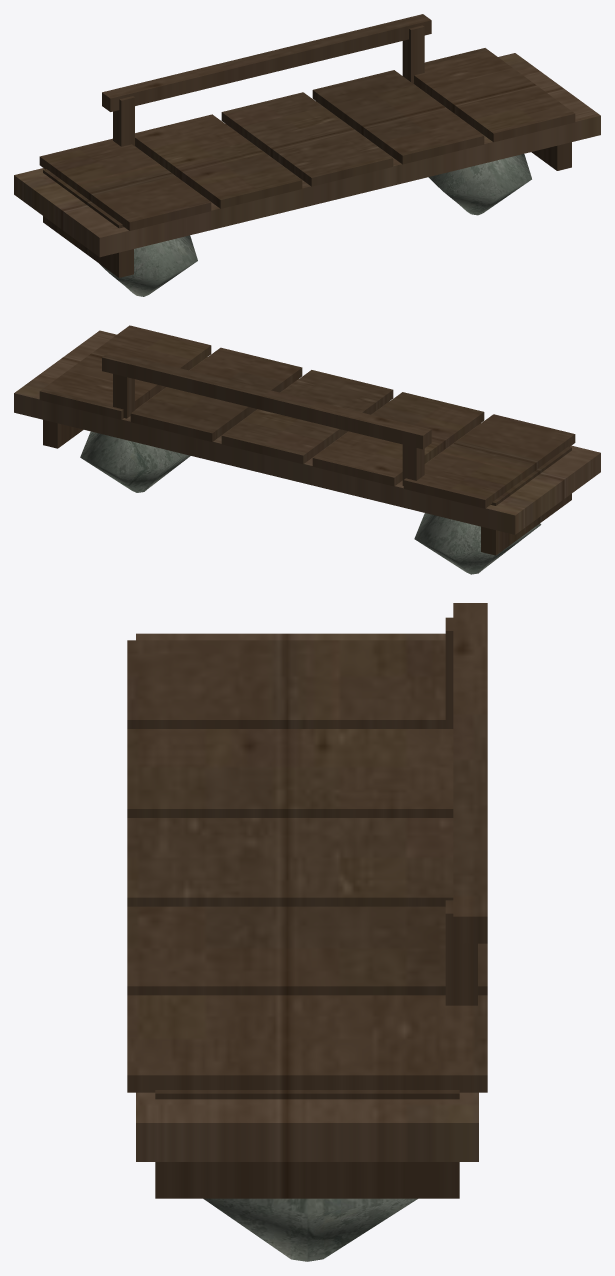
Rendered from paired-bench.mobile.glb.
3 views of the same model, one above another, from view 1: azimuth 30°, elevation 25°; view 2: azimuth 150°, elevation 25°; view 3: azimuth 270°, elevation 25° (orthographic). The views are drawn at different scales.
Parts seen in each view (by area): view 1: SA_P02_MESH_60, SA_P02_MESH_01, SA_P02_MESH_00; view 2: SA_P02_MESH_60, SA_P02_MESH_01, SA_P02_MESH_00; view 3: SA_P02_MESH_60, SA_P02_MESH_01, SA_P02_MESH_00.
Part boxes in pixels (x1,y1,x2,y2): SA_P02_MESH_60: [39, 14, 575, 277]; SA_P02_MESH_01: [14, 53, 600, 257]; SA_P02_MESH_00: [99, 154, 531, 296]; SA_P02_MESH_60: [39, 325, 575, 555]; SA_P02_MESH_01: [14, 330, 600, 534]; SA_P02_MESH_00: [80, 431, 541, 574]; SA_P02_MESH_60: [127, 603, 487, 1198]; SA_P02_MESH_01: [136, 633, 478, 1161]; SA_P02_MESH_00: [203, 1198, 417, 1261].
Size of the model in its own units: 2.7 by 0.855 by 0.84.
2 materials, 2 textured.
